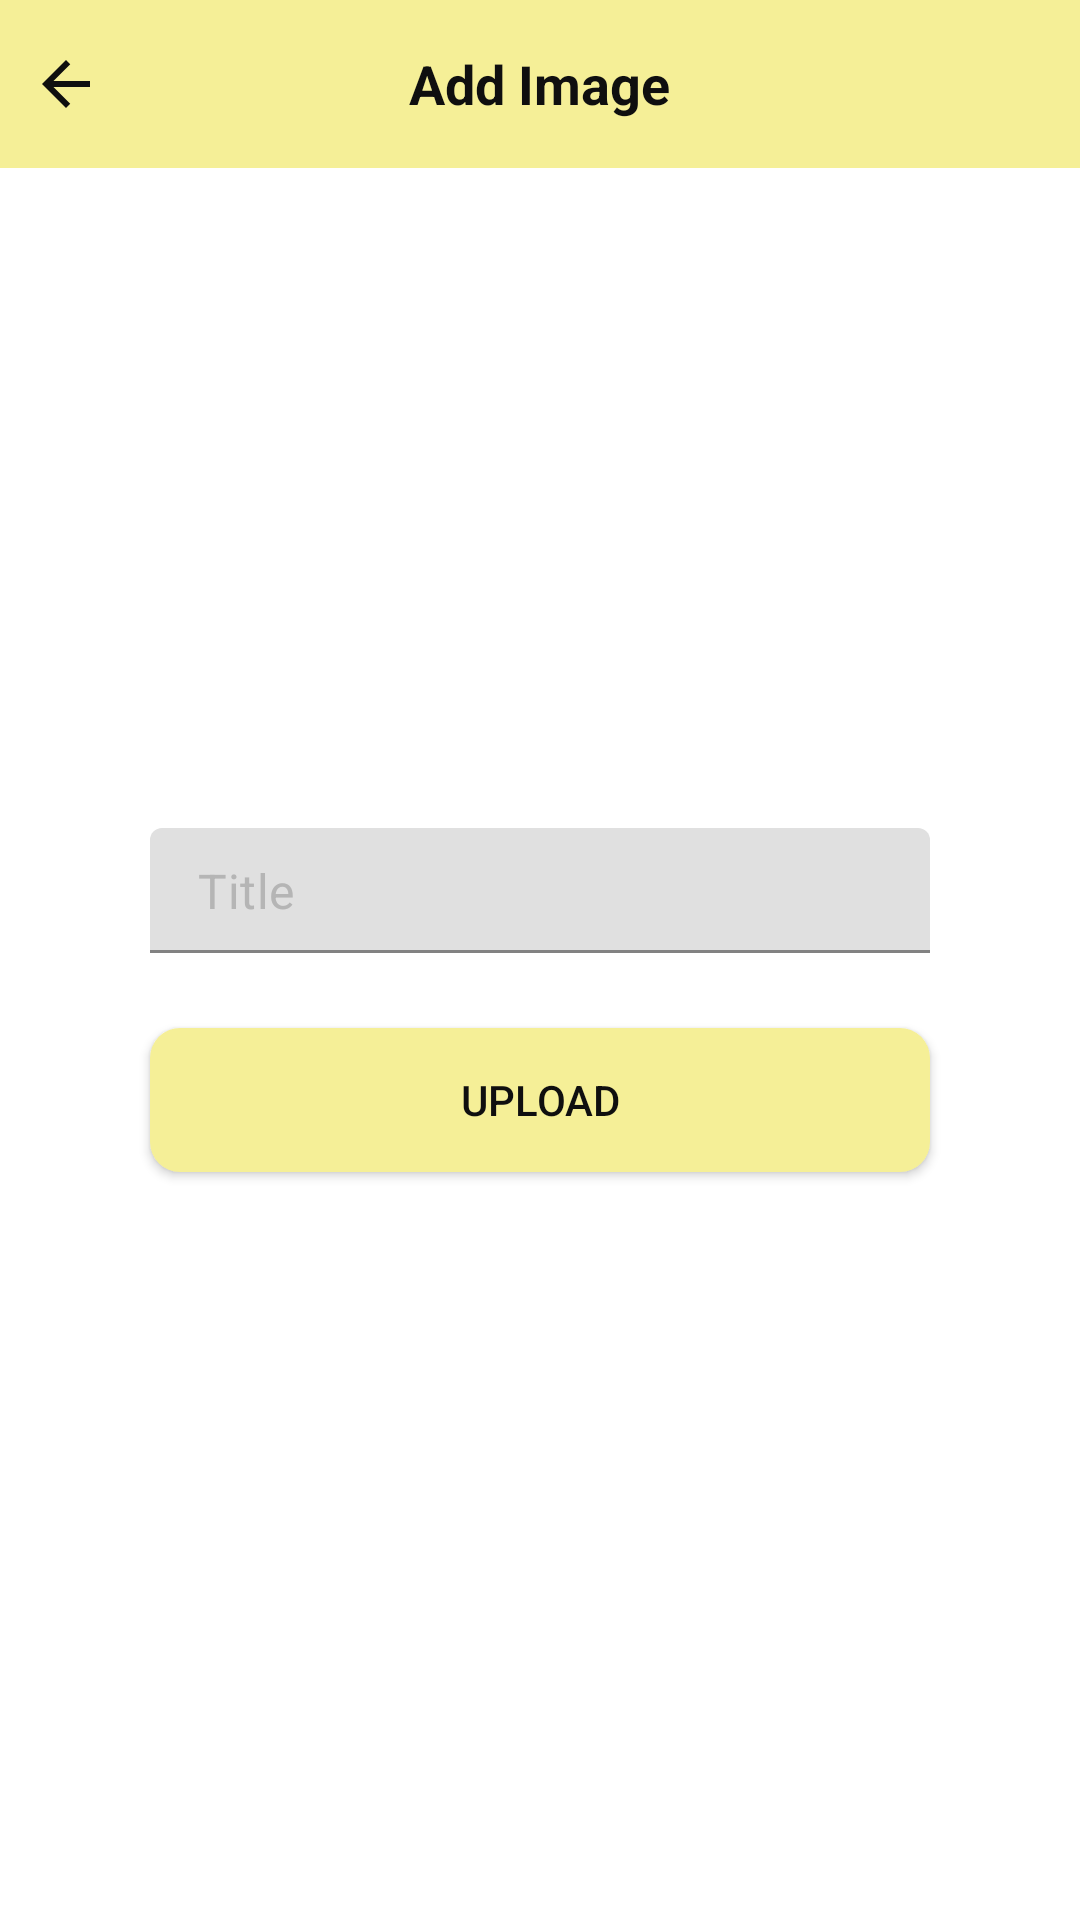

Named icons in this screenshot (1080x1920) and their centers, [x,y]:
back: [66,84]
